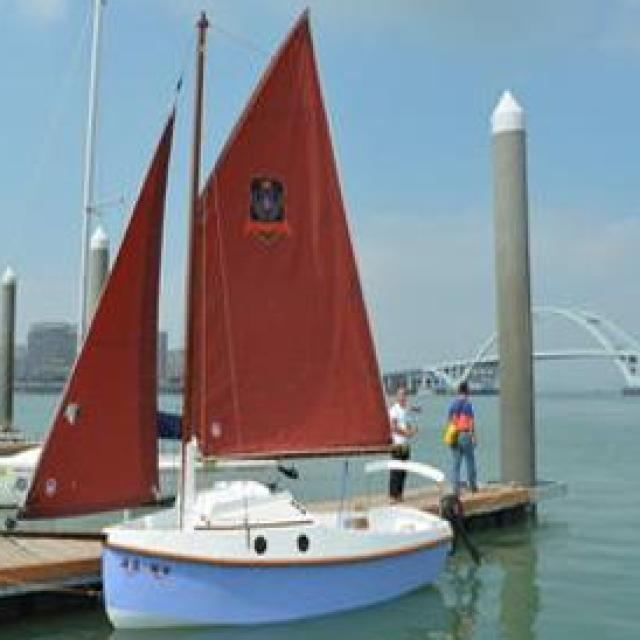sailboat: (32, 7, 448, 624)
